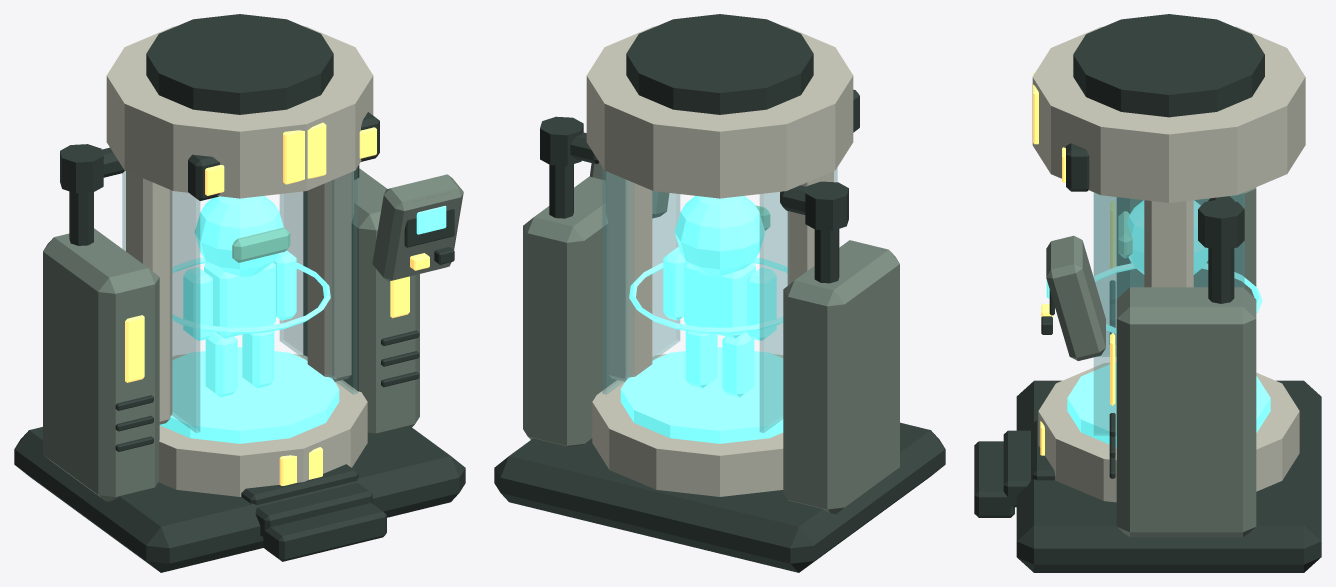
Rendered from printer.glb.
3 renders of one model, left to right at view 1: azimuth 30°, elevation 25°; view 2: azimuth 150°, elevation 25°; view 3: azimuth 270°, elevation 25°, orthographic. The views are drawn at different scales.
Parts seen in each view (by area): view 1: Service canister, Crown, Foundation, Top vent, Service canister.001, Print platform, Chamber foot, Glass side.001, Chamber column.001, Glass side, Chamber column, Terminal (+20 smaller); view 2: Service canister, Crown, Foundation, Service canister.001, Top vent, Chamber foot, Print platform, Glass side.001, Chamber column.001, Glass side, Hologram helmet, Hologram torso (+12 smaller); view 3: Service canister.001, Crown, Foundation, Top vent, Chamber foot, Glass side.001, Terminal, Glass side, Chamber column.001, Print platform, Service canister, Step.002 (+8 smaller).
Boxes of the visible parts, x1,y1,x2,y2 form: Service canister: [43, 228, 159, 501]; Crown: [106, 26, 373, 198]; Foundation: [14, 426, 465, 572]; Top vent: [146, 14, 333, 114]; Service canister.001: [303, 168, 419, 434]; Print platform: [160, 347, 339, 443]; Chamber foot: [158, 354, 367, 496]; Glass side.001: [280, 168, 357, 394]; Chamber column.001: [307, 171, 353, 381]; Glass side: [122, 171, 199, 432]; Chamber column: [126, 171, 172, 424]; Terminal: [372, 174, 463, 281]; Service canister: [783, 240, 899, 514]; Crown: [586, 26, 853, 198]; Foundation: [494, 422, 945, 572]; Service canister.001: [523, 176, 616, 446]; Top vent: [626, 14, 813, 114]; Chamber foot: [592, 354, 783, 496]; Print platform: [620, 347, 783, 443]; Glass side.001: [602, 168, 679, 394]; Chamber column.001: [606, 171, 652, 381]; Glass side: [760, 168, 837, 432]; Hologram helmet: [674, 196, 765, 276]; Hologram torso: [684, 262, 755, 338]; Service canister.001: [1116, 287, 1256, 537]; Crown: [1032, 26, 1305, 202]; Foundation: [1016, 380, 1321, 572]; Top vent: [1073, 14, 1264, 117]; Chamber foot: [1038, 362, 1299, 502]; Glass side.001: [1094, 192, 1244, 435]; Terminal: [1046, 235, 1105, 360]; Glass side: [1094, 193, 1244, 356]; Chamber column.001: [1144, 200, 1193, 287]; Print platform: [1067, 361, 1270, 447]; Service canister: [1117, 187, 1256, 298]; Step.002: [974, 441, 1014, 517].
Bounding box in the file's own units: 1.33 × 1.69 × 1.2.
